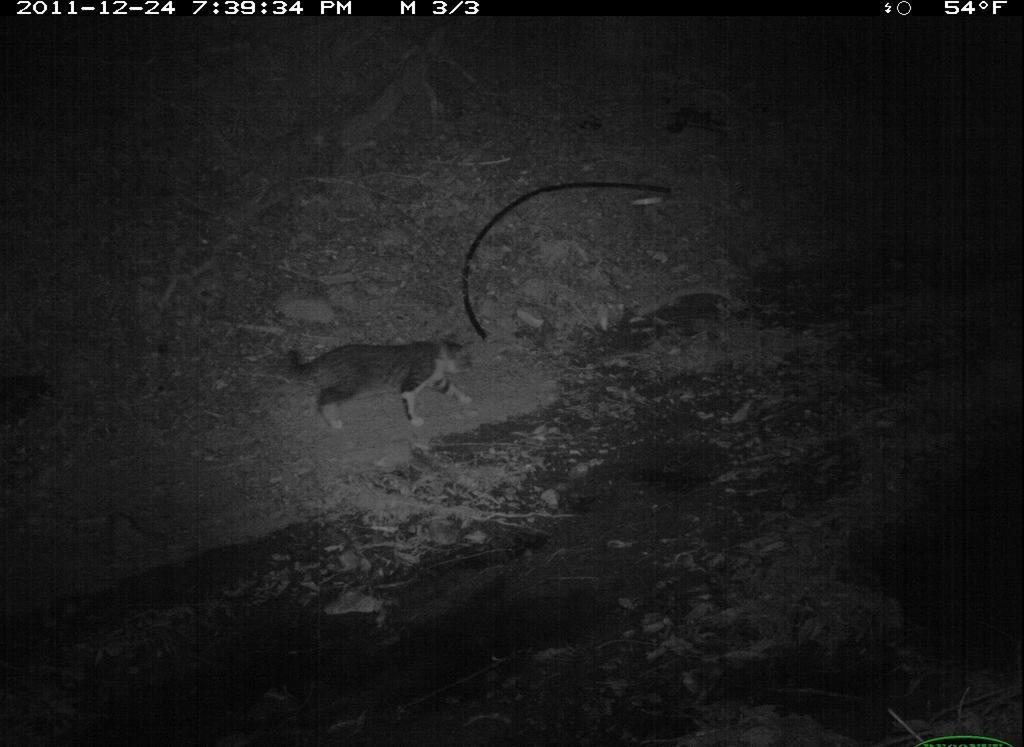cat: (277, 329, 484, 440)
